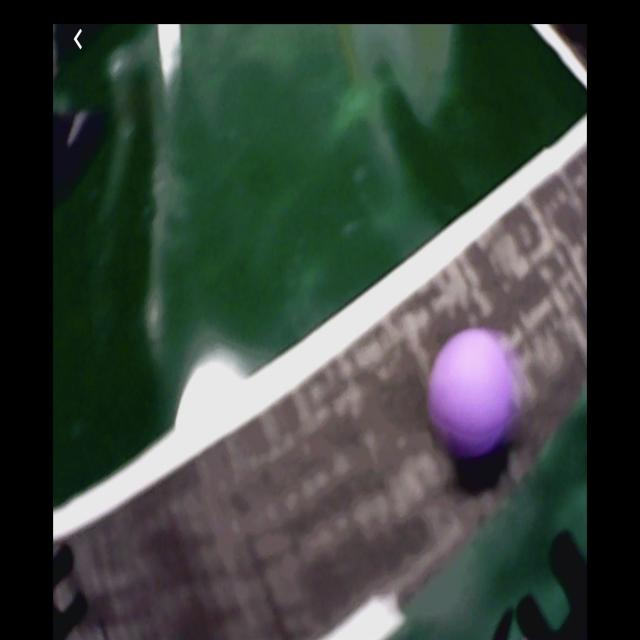ball: (428, 328, 517, 456)
